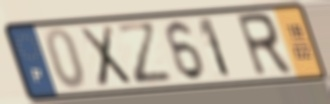0: (44, 26, 90, 93)
1: (197, 15, 234, 82)
6: (162, 18, 209, 83)
R: (233, 10, 296, 80)
X: (76, 23, 135, 90)
Z: (112, 21, 177, 88)
